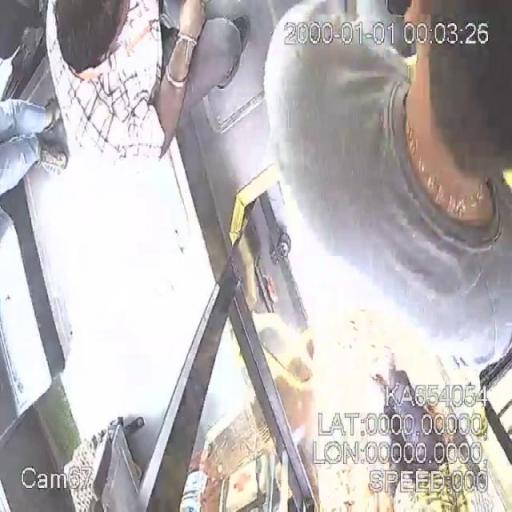persona: (260, 1, 510, 361), (43, 1, 252, 170), (360, 354, 471, 512)
